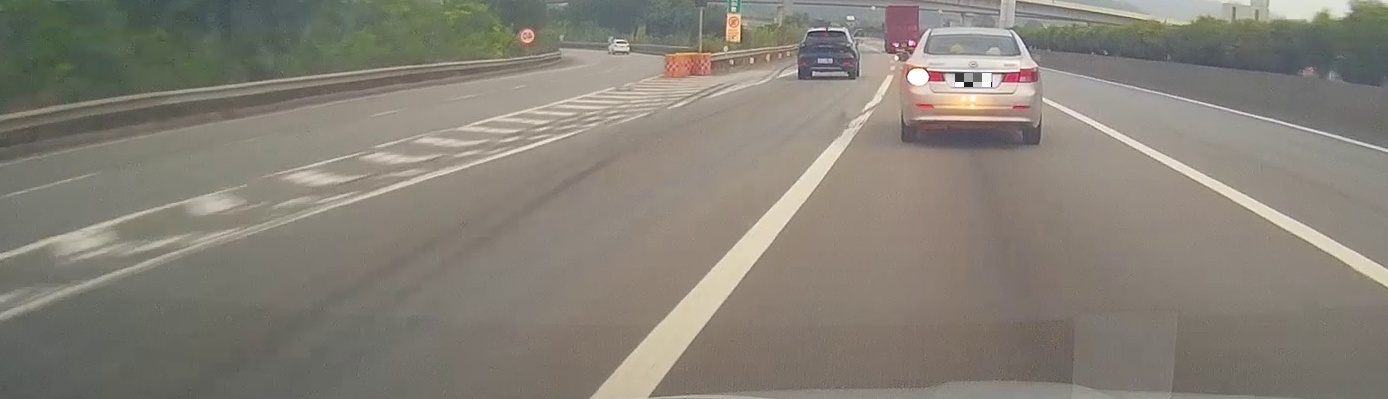L_light: (906, 68, 946, 82), (800, 41, 812, 46)
R_light: (1001, 67, 1039, 82), (839, 41, 852, 46)
T_light: (964, 34, 980, 38), (823, 31, 831, 33)
day-left: (900, 27, 1041, 145)
day-no: (798, 28, 857, 79)
plate_1: (955, 73, 992, 87)
